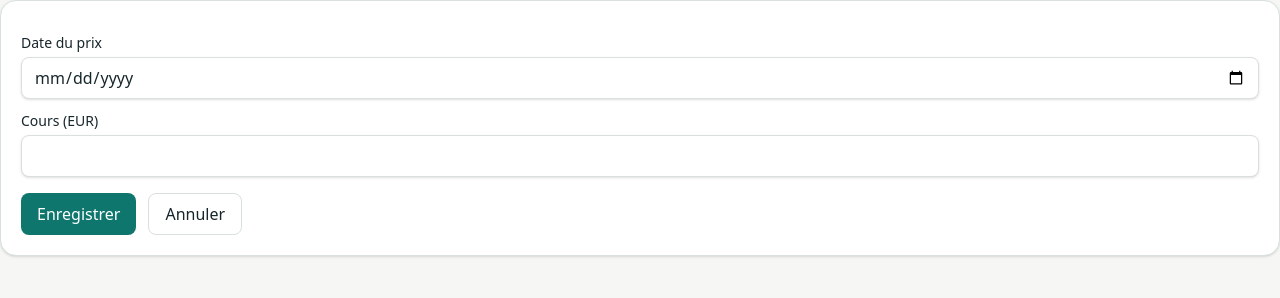
Test case: actions et ETF › refuse une date dans le futur
Type "2999-01-01" into the date field labelled "Date du prix" at x=640, y=78, box [21,57,1259,99]
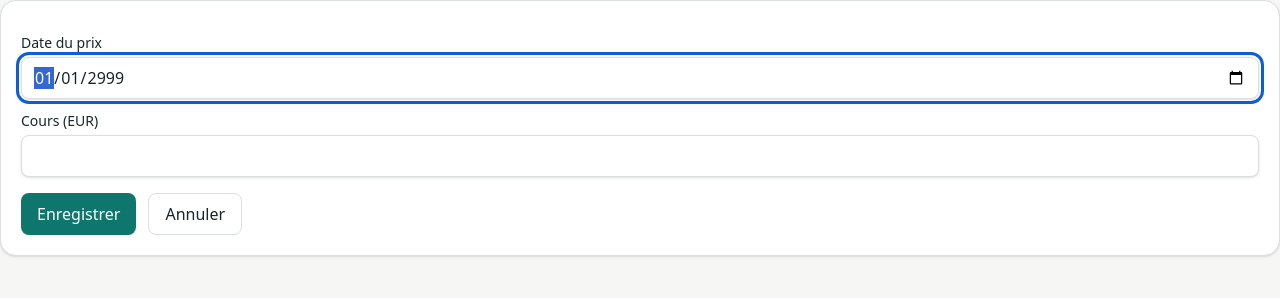
Type "10" into the field labelled "Cours (EUR)" at x=640, y=156, box [21,135,1259,177]
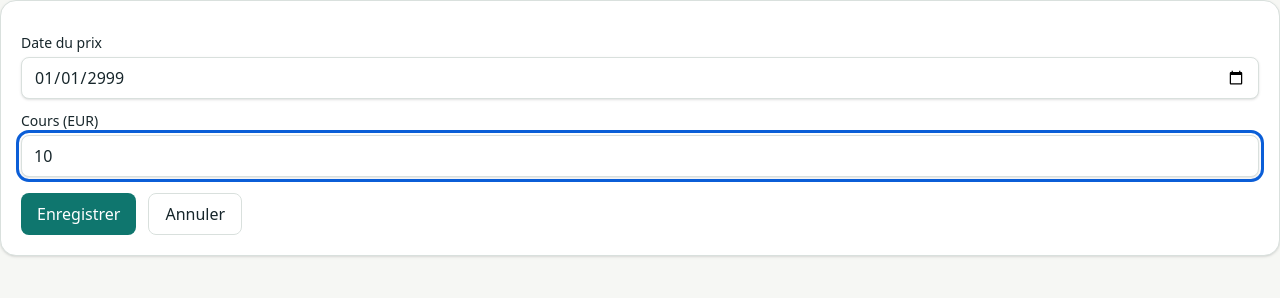
Click the button "Enregistrer" at x=79, y=214, box [21,193,136,235]
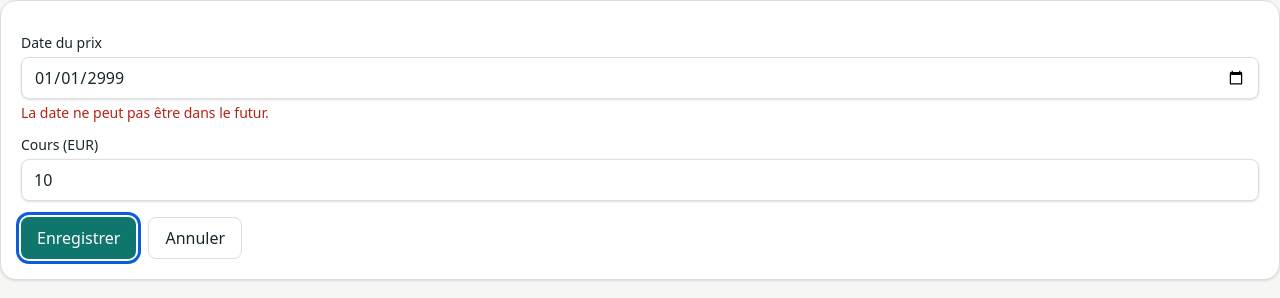
Check: the text "La date ne peut pas être dans le futur." is shown, box [21,103,269,122]
